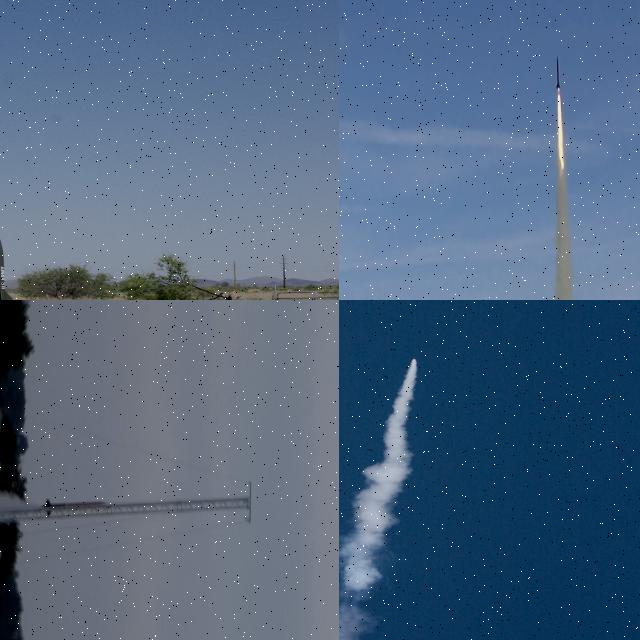Rocket: (44, 498, 109, 515), (0, 233, 13, 300), (556, 56, 560, 92), (412, 356, 417, 359)
